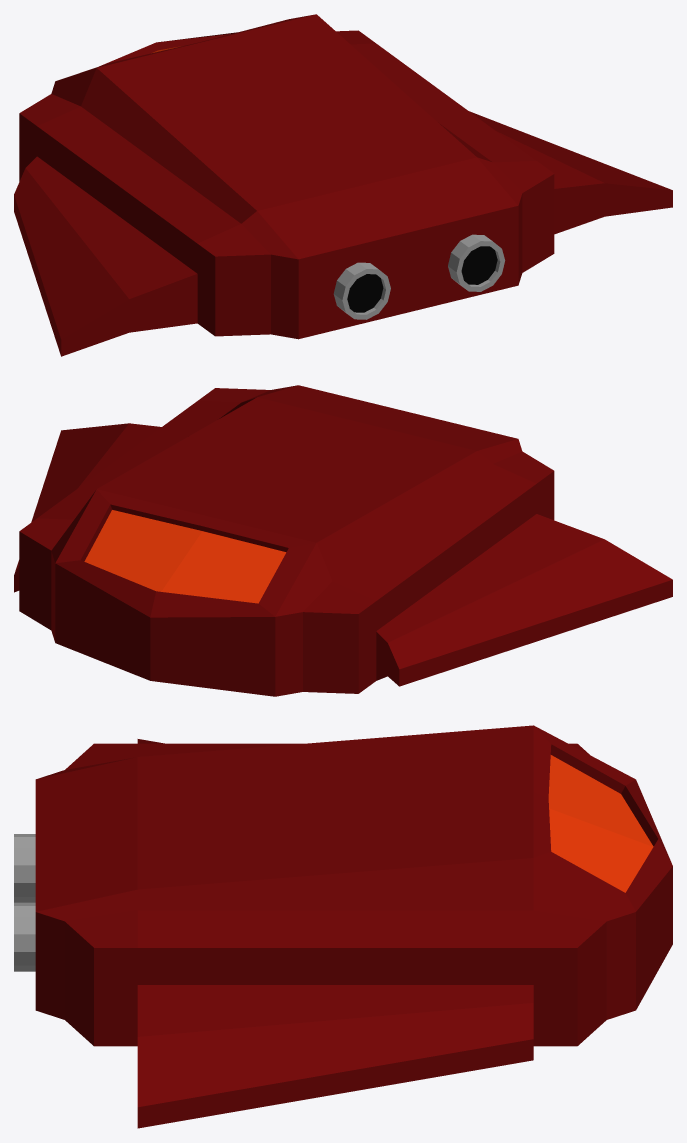
The model's file is SmallEnemyShip.fbx.
3 views of the same model, one above another, from view 1: azimuth 30°, elevation 25°; view 2: azimuth 150°, elevation 25°; view 3: azimuth 270°, elevation 25° (orthographic). The views are drawn at different scales.
Parts seen in each view (by area): view 1: SmallEnemyShip; view 2: SmallEnemyShip; view 3: SmallEnemyShip.
Part boxes in pixels (box(x1,y1,x2,y2)): SmallEnemyShip: box(14, 14, 672, 356); SmallEnemyShip: box(14, 385, 672, 696); SmallEnemyShip: box(14, 725, 672, 1128).
Size of the model in its own units: 4.06 by 3.07 by 0.841.
